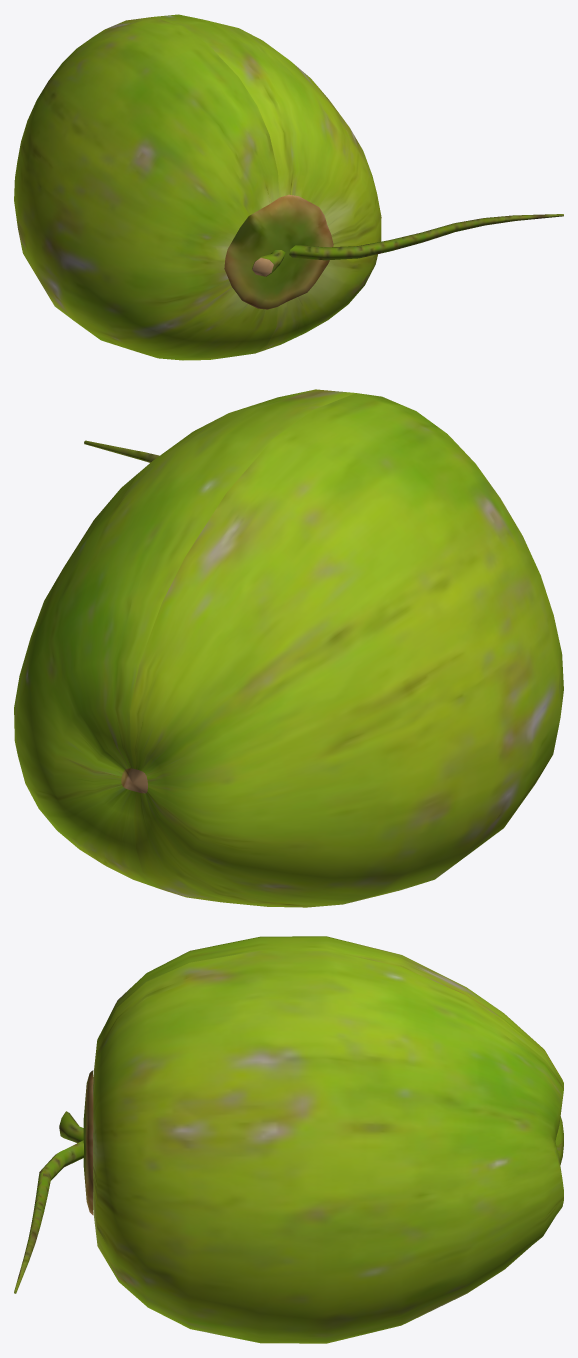
The model's file is coconut_green.glb.
The picture shows the model from 3 angles, top to bottom: view 1: azimuth 30°, elevation 25°; view 2: azimuth 150°, elevation 25°; view 3: azimuth 270°, elevation 25°; orthographic projection. The views are drawn at different scales.
Visible parts, largest first — view 1: realscale; view 2: realscale; view 3: realscale.
Boxes of the visible parts, box(x1,y1,x2,y2) form: realscale: box(14, 14, 563, 360); realscale: box(14, 389, 563, 907); realscale: box(14, 936, 563, 1343).
Bounding box in the file's own units: 0.3502 × 0.25 × 0.3422.
1 material, 1 textured.
